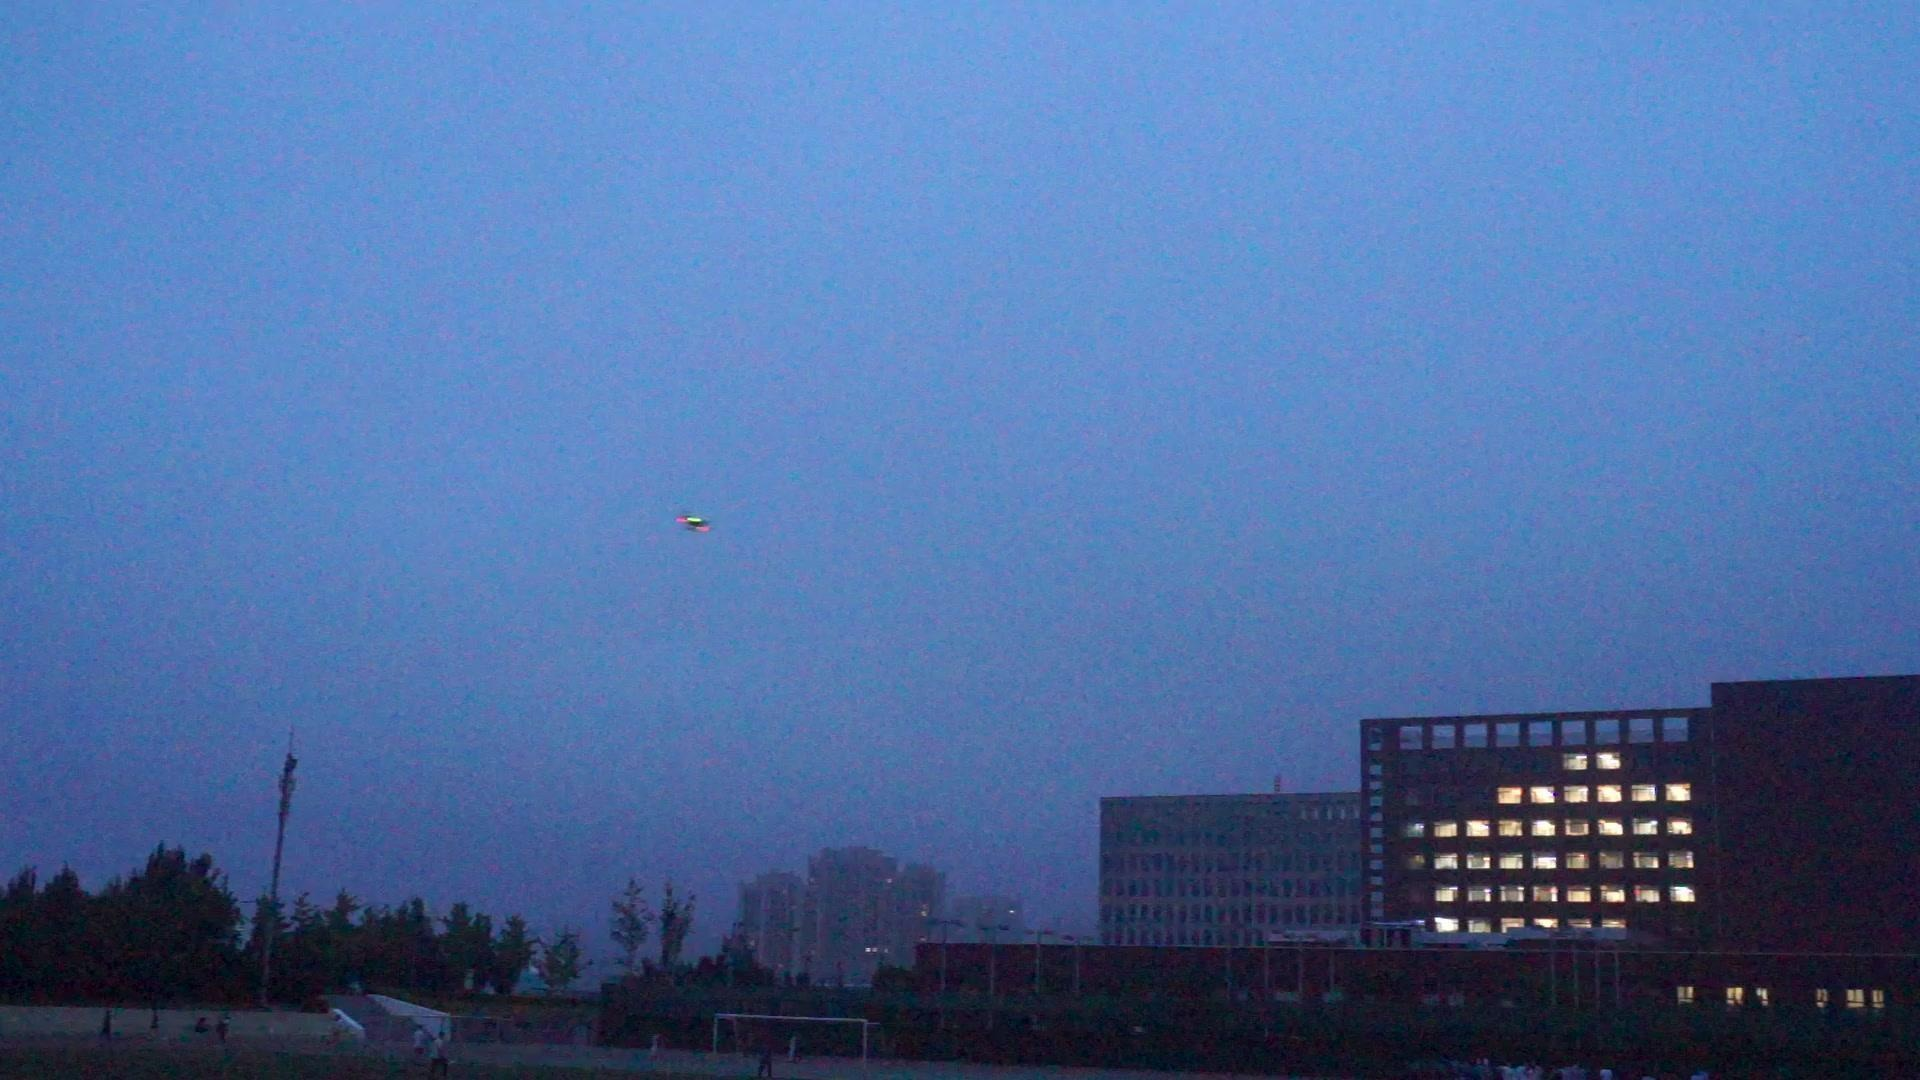UAV: (675, 517, 712, 533)
